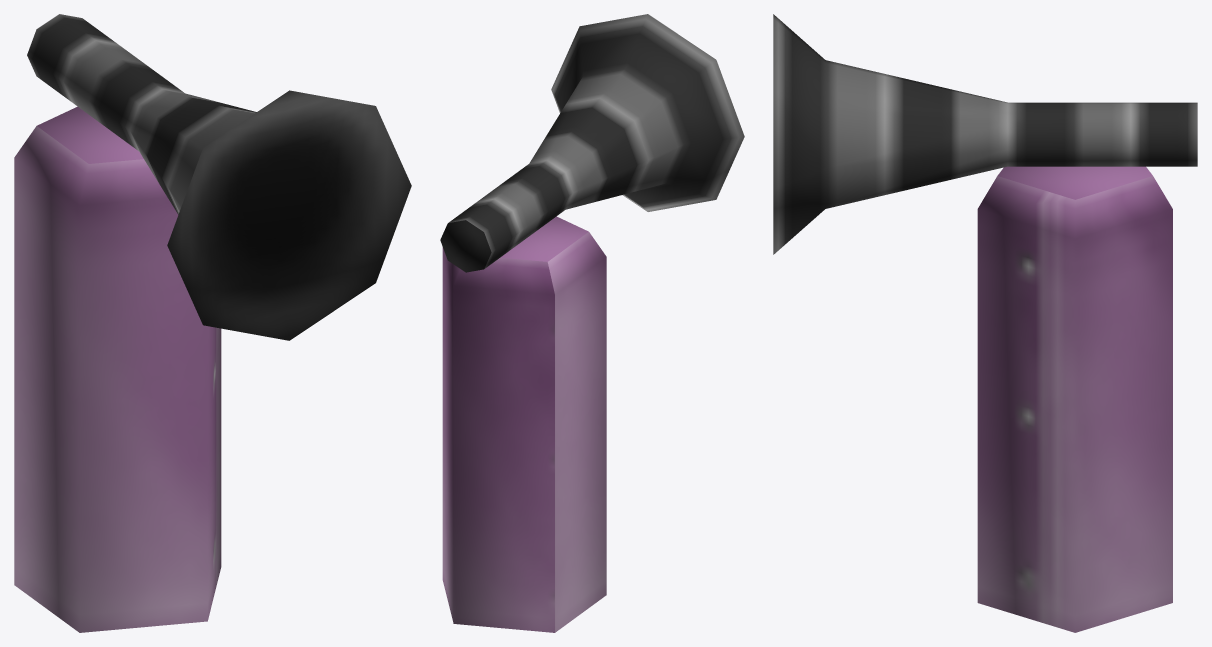
Rendered from AirHorn.fbx.
The picture shows the model from 3 angles, left to right: view 1: azimuth 30°, elevation 25°; view 2: azimuth 150°, elevation 25°; view 3: azimuth 270°, elevation 25°; orthographic projection. The views are drawn at different scales.
Visible parts, largest first — view 1: Maya_File_Assets:TexturedAssetsCurrent:BlowHorn; view 2: Maya_File_Assets:TexturedAssetsCurrent:BlowHorn; view 3: Maya_File_Assets:TexturedAssetsCurrent:BlowHorn.
Boxes of the visible parts, left/top/right/bottom form: Maya_File_Assets:TexturedAssetsCurrent:BlowHorn: left=14, top=14, right=411, bottom=632; Maya_File_Assets:TexturedAssetsCurrent:BlowHorn: left=440, top=14, right=744, bottom=632; Maya_File_Assets:TexturedAssetsCurrent:BlowHorn: left=773, top=14, right=1197, bottom=632.
Bounding box in the file's own units: 0.1278 × 0.3091 × 0.2082.
